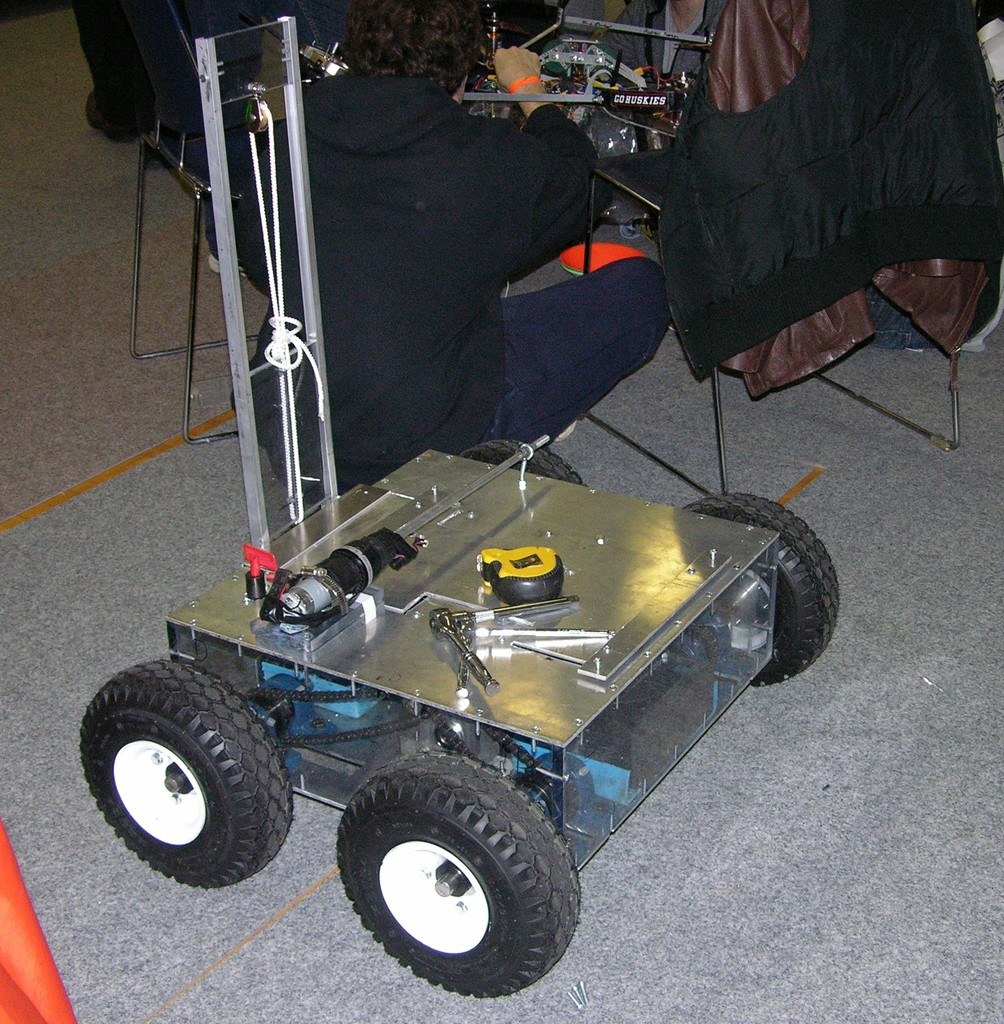person: (592, 0, 736, 77)
